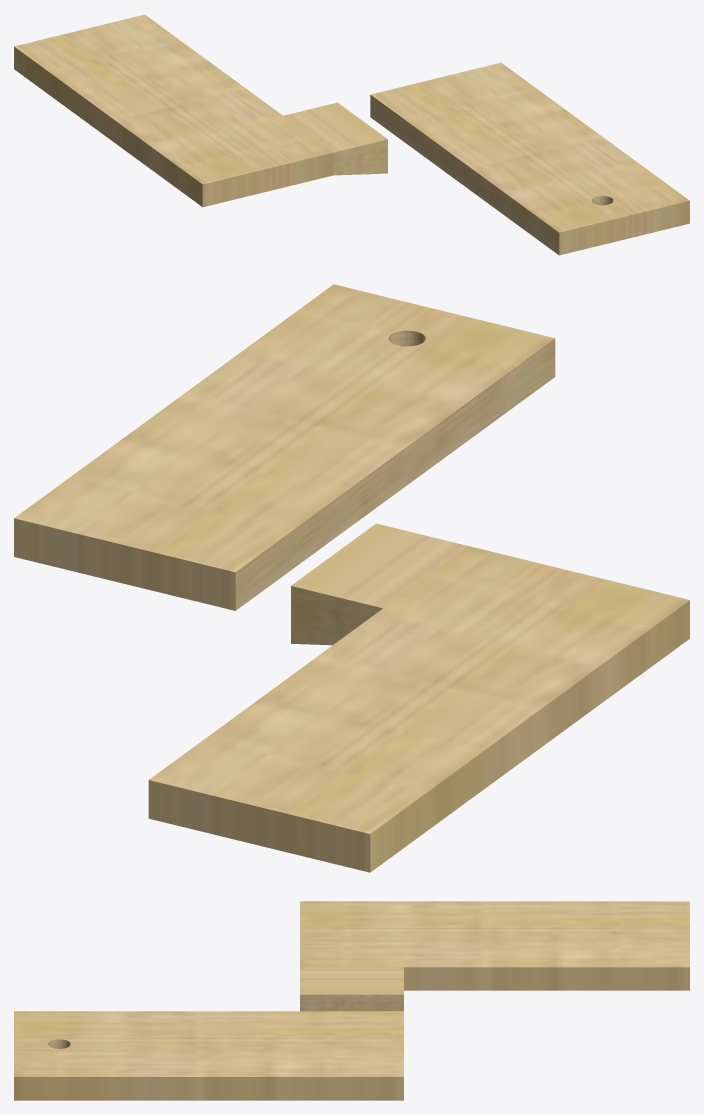
Rendered from Hole3Revised.obj.
3 views of the same model, one above another, from view 1: azimuth 30°, elevation 25°; view 2: azimuth 150°, elevation 25°; view 3: azimuth 270°, elevation 25° (orthographic). The views are drawn at different scales.
Parts seen in each view (by area): view 1: Object.1, Object.3, Object.2; view 2: Object.1, Object.3, Object.2; view 3: Object.3, Object.1, Object.2.
Boxes of the visible parts, x1,y1,x2,y2 form: Object.1: (14,14,333,207); Object.3: (370,62,689,255); Object.2: (283,102,387,175); Object.1: (148,546,689,872); Object.3: (14,284,555,610); Object.2: (291,523,467,637); Object.3: (14,1011,403,1100); Object.1: (300,901,689,990); Object.2: (300,967,403,1011).
Size of the model in its own units: 32 by 3 by 52.
Materials: 1 (1 with a texture image).
